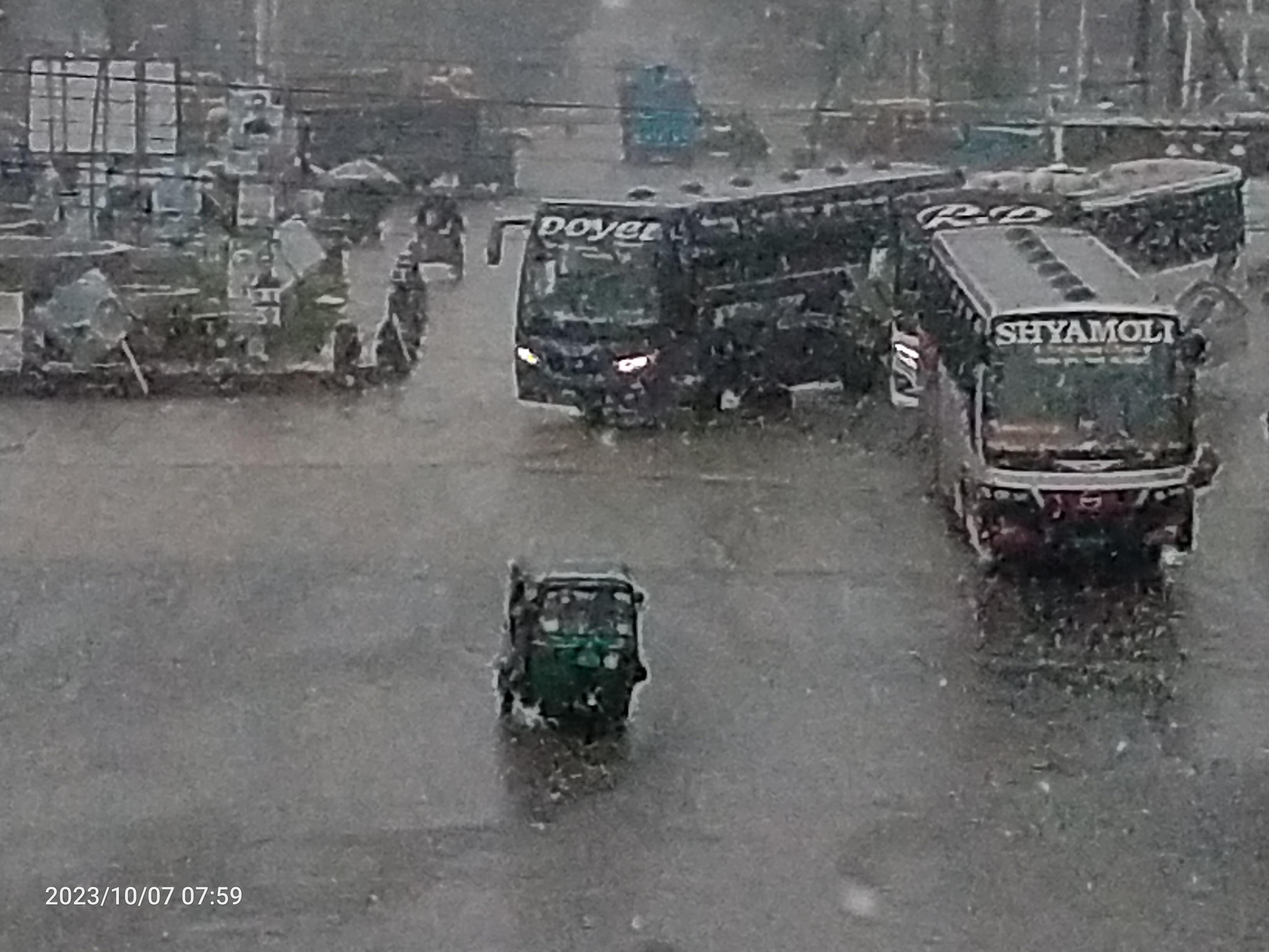Bus: (474, 148, 968, 438), (923, 211, 1227, 603)
Truck: (604, 42, 712, 187)
